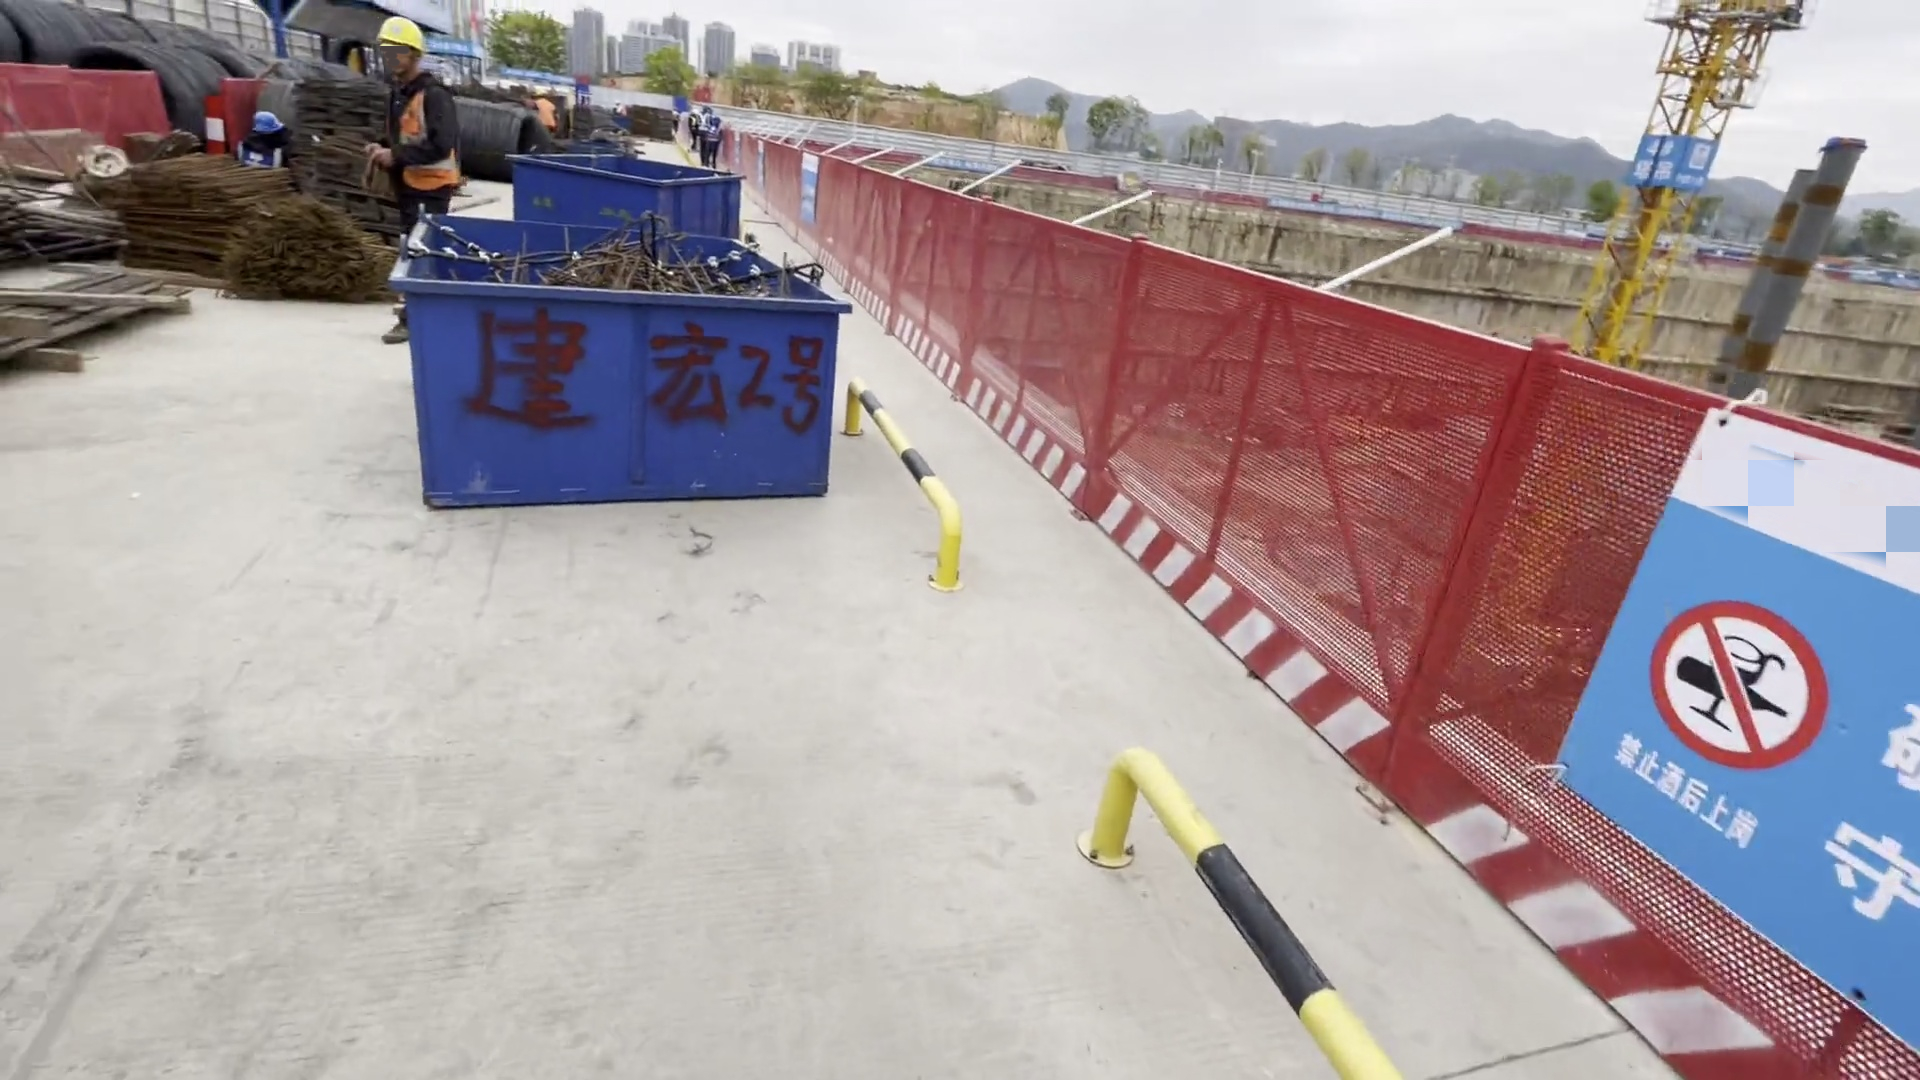fence: (783, 161, 1630, 849)
helmet: (373, 15, 430, 55)
hopper: (378, 230, 854, 521), (505, 151, 763, 246)
person: (366, 13, 456, 337), (524, 88, 555, 135), (693, 105, 712, 165), (704, 120, 721, 168)
slogan: (1643, 579, 1920, 912)
vest: (392, 88, 461, 187), (533, 99, 557, 128), (705, 127, 719, 143)
